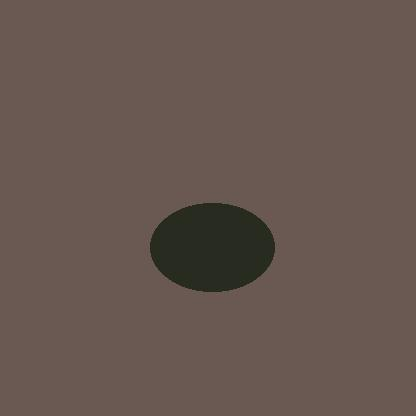pothole: (150, 203, 274, 291)
